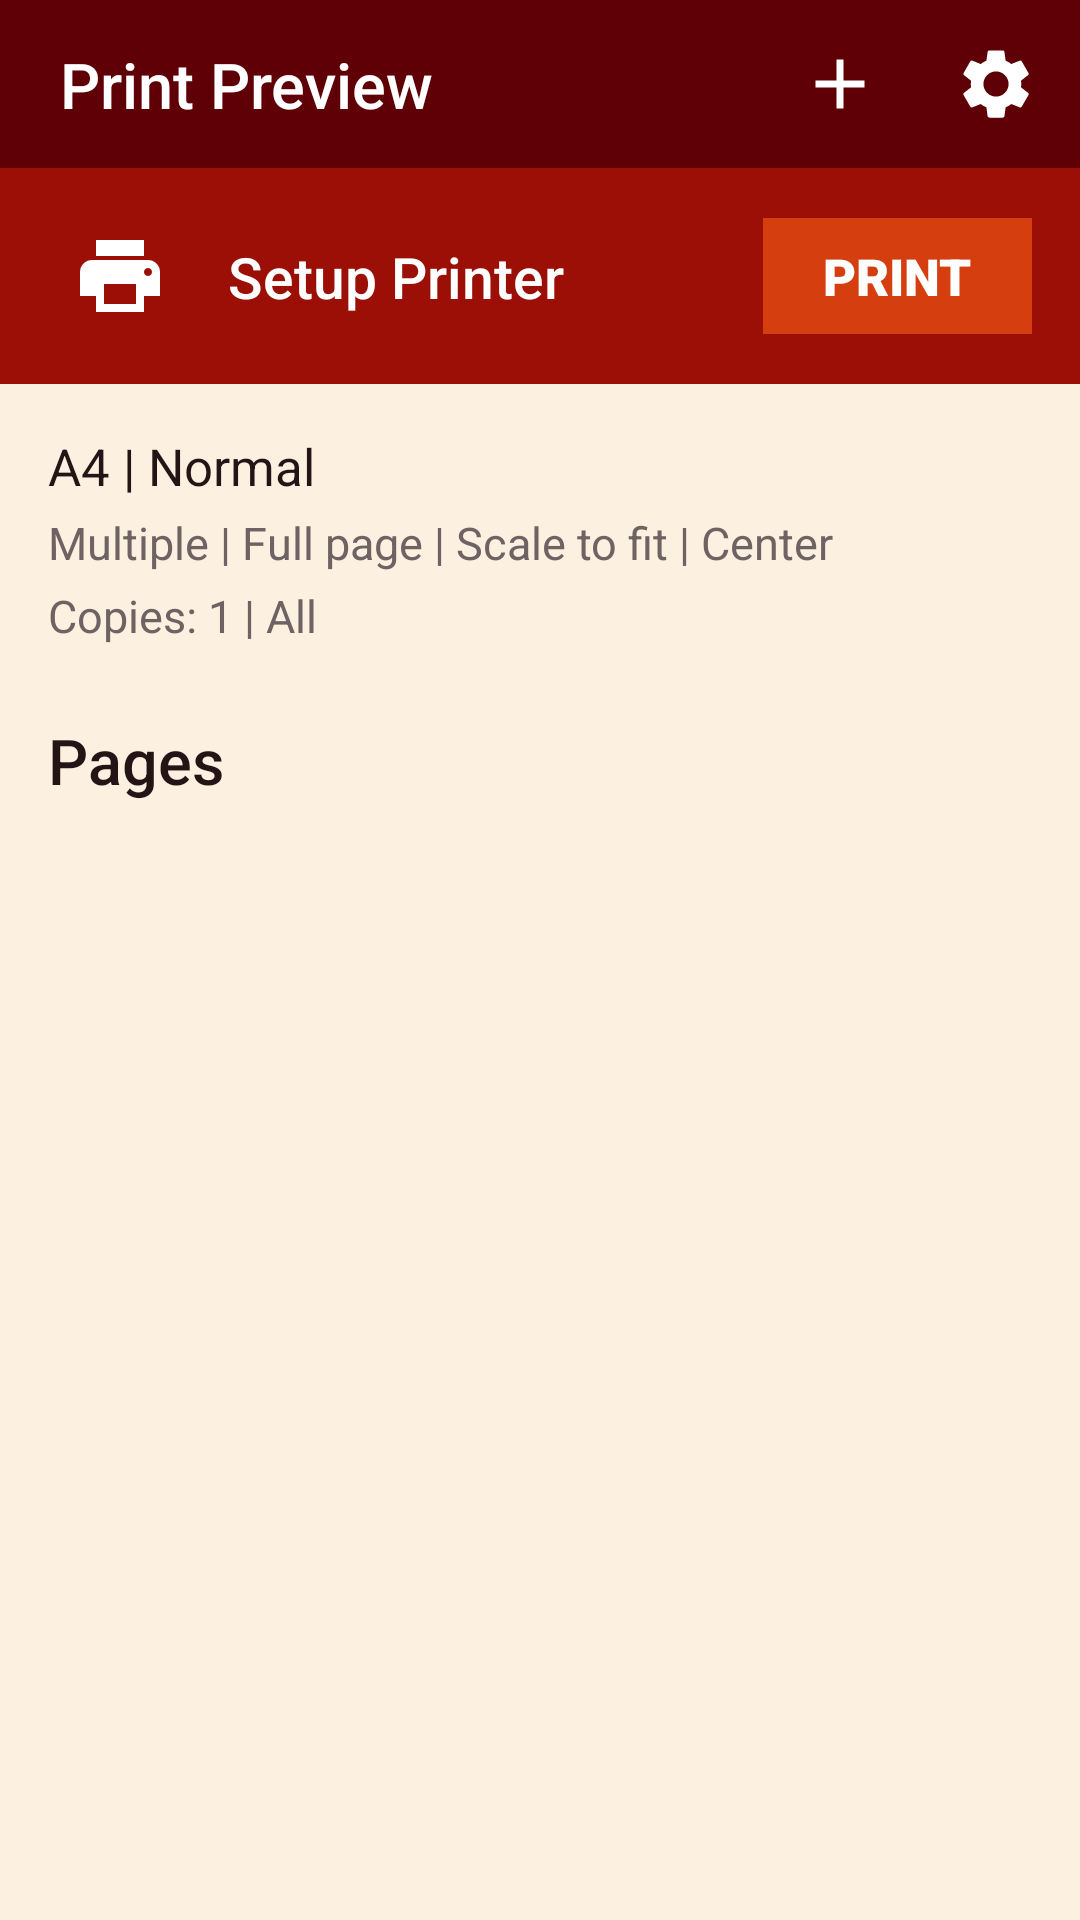

Icons on this 1080 x 1920 Android screen, each with the point to tap as point (x, y):
Add File: point (840, 84)
Settings: point (996, 84)
